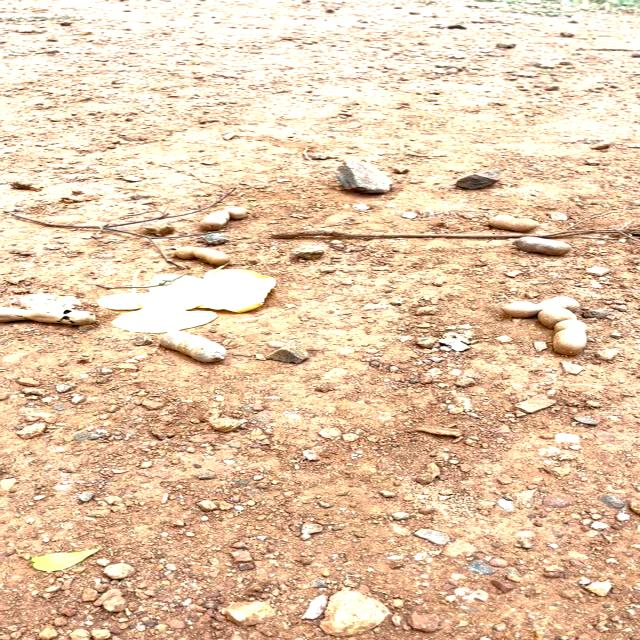tamarind: (502, 295, 585, 363), (154, 329, 231, 366), (0, 307, 106, 324), (510, 238, 578, 260), (484, 210, 540, 233), (203, 202, 247, 229), (171, 246, 233, 265)
